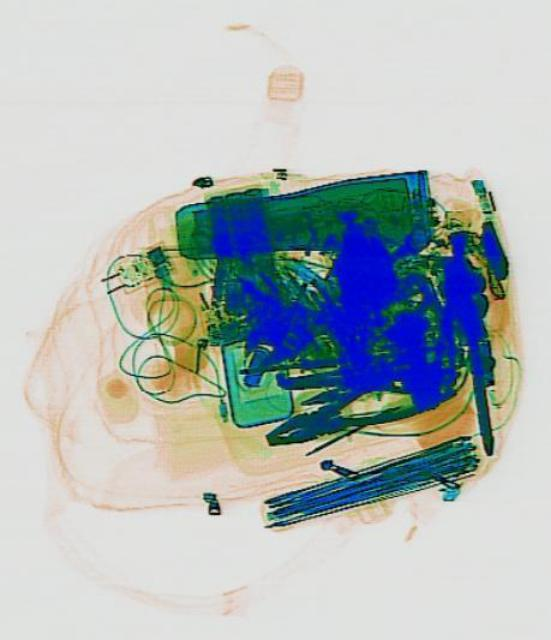Pliers: (257, 352, 458, 462)
